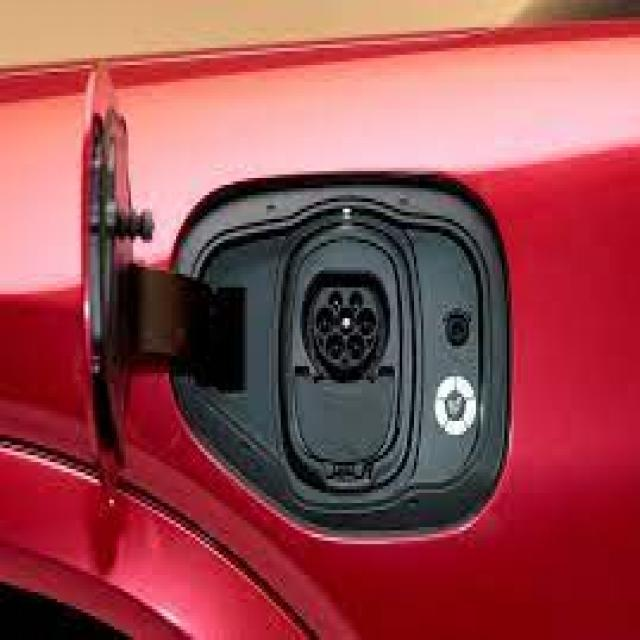Type 2: (266, 237, 422, 402)
